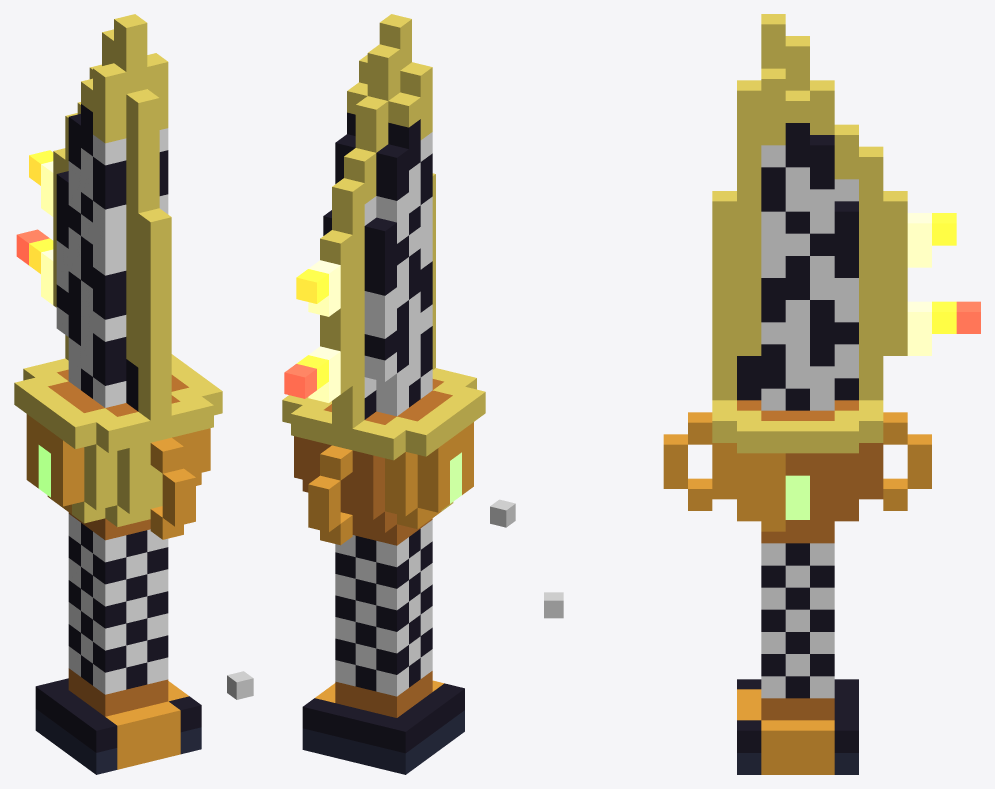
File: VictoryLap.fbx
3 renders of one model, left to right at view 1: azimuth 30°, elevation 25°; view 2: azimuth 150°, elevation 25°; view 3: azimuth 270°, elevation 25°, orthographic. The views are drawn at different scales.
Parts seen in each view (by area): view 1: gold_l, check_k, gold, checkglow, check_w, gold_d, tyre, tyre_l, flame_y, flame, UpMark, gem (+1 smaller); view 2: gold_l, check_k, gold, checkglow, gold_d, check_w, tyre, tyre_l, flame_y, flame, flame_r, UpMark (+1 smaller); view 3: gold_l, check_k, gold, checkglow, gold_d, check_w, tyre, flame_y, flame, gem, tyre_l, flame_r.
Part boxes in pixels (x1,y1,x2,y2): gold_l: [14, 14, 222, 527]; check_k: [56, 104, 168, 689]; gold: [26, 414, 210, 769]; checkglow: [56, 128, 168, 407]; check_w: [68, 514, 168, 694]; gold_d: [48, 369, 188, 716]; tyre: [35, 678, 201, 752]; tyre_l: [35, 709, 201, 774]; flame_y: [41, 161, 53, 304]; flame: [29, 150, 53, 273]; UpMark: [227, 671, 253, 699]; gem: [38, 445, 50, 497]; gold_l: [282, 14, 485, 511]; check_k: [323, 112, 432, 691]; gold: [308, 422, 473, 702]; checkglow: [364, 132, 432, 416]; gold_d: [294, 379, 452, 717]; check_w: [335, 520, 432, 696]; tyre: [302, 683, 464, 753]; tyre_l: [302, 710, 464, 774]; flame_y: [308, 260, 340, 402]; flame: [296, 269, 328, 389]; flame_r: [284, 364, 316, 398]; UpMark: [490, 499, 515, 527]; gold_l: [712, 14, 907, 453]; check_k: [737, 123, 858, 698]; gold: [663, 412, 931, 774]; checkglow: [761, 145, 858, 410]; gold_d: [737, 400, 883, 720]; check_w: [761, 543, 834, 698]; tyre: [737, 679, 858, 752]; flame_y: [907, 213, 931, 355]; flame: [932, 213, 956, 333]; gem: [785, 475, 809, 519]; tyre_l: [737, 753, 858, 774]; flame_r: [956, 301, 980, 333].
Bounding box in the file's own units: 70 × 330 × 179.
